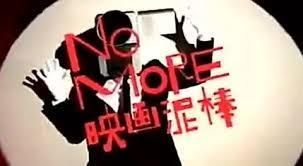no more kid: (95, 9, 180, 74)
